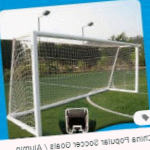goals: (5, 29, 142, 135)
